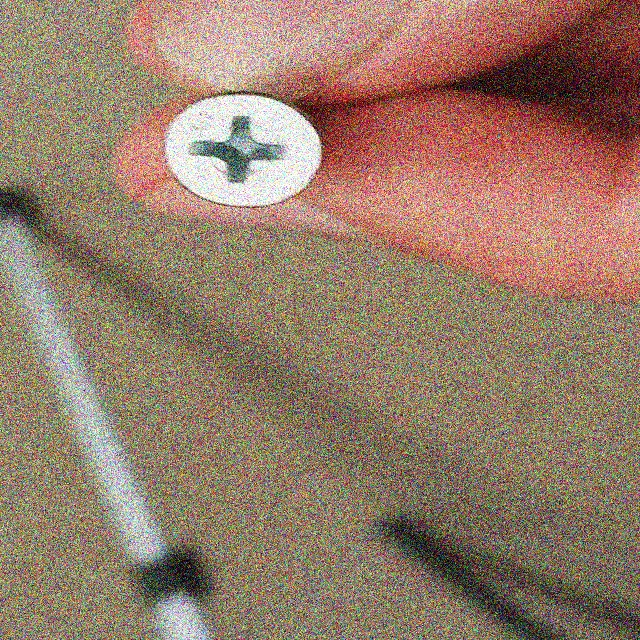phillips: (165, 91, 323, 209)
